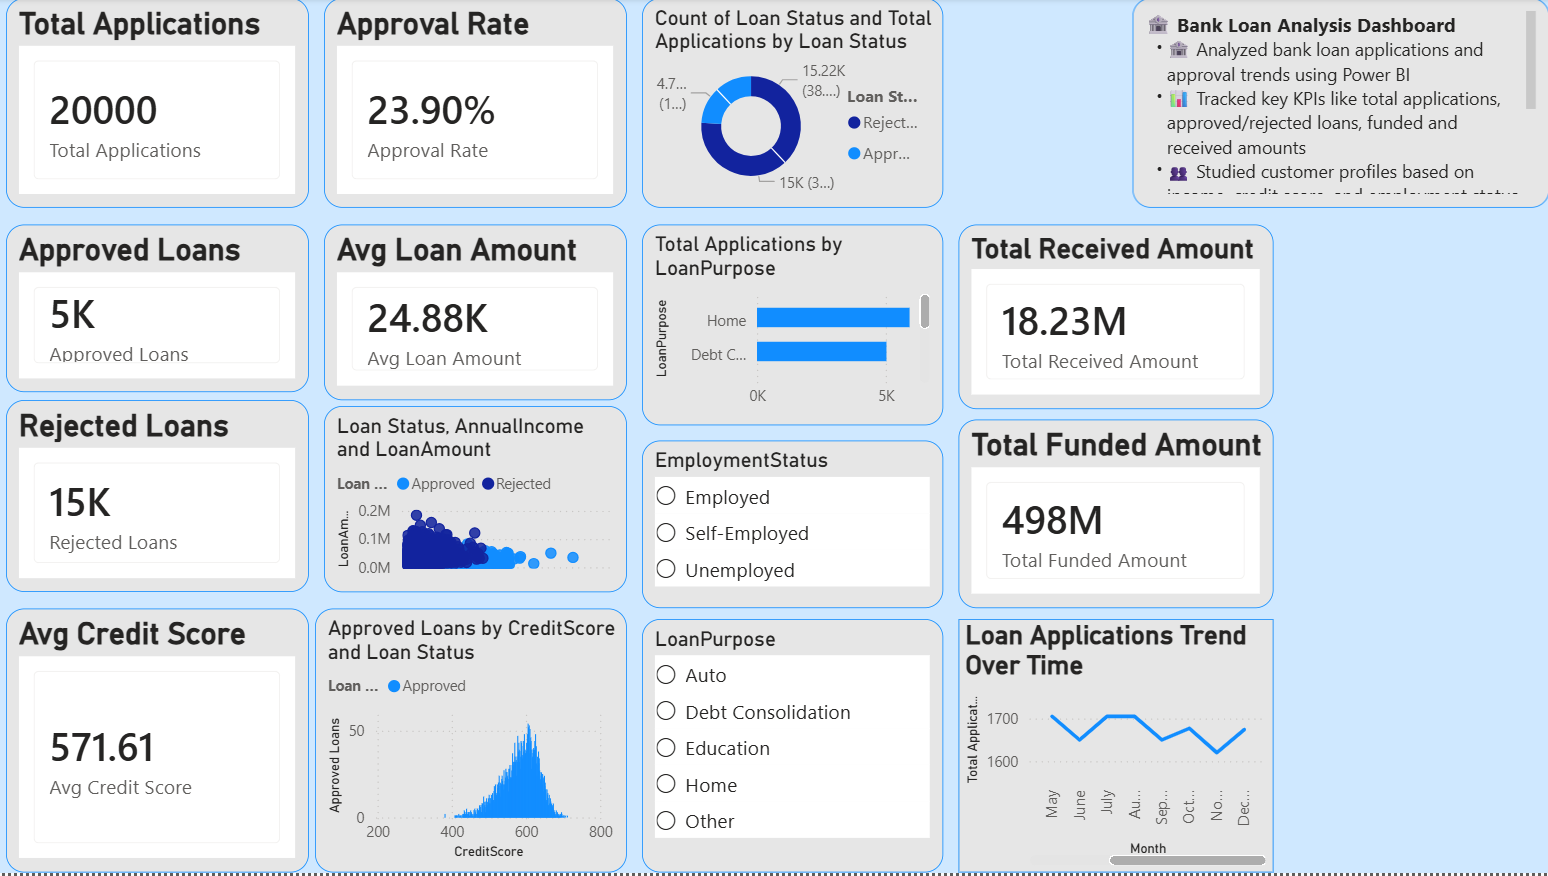

Layout of this report page (visuals, bound fields, positions):
{"tool":"powerbi","page":{"name":"Page 1","canvas":[1280,720],"ordinal":0},"visuals":[{"type":"cardVisual","title":"Total Applications","fields":{"Data":["Loan.Total Applications"]},"box":[9.9,0,249.4,172.9],"z":0},{"type":"cardVisual","title":"Approved Loans","fields":{"Data":["Loan.Approved Loans"]},"box":[9.9,186.4,249.4,138.3],"z":1000},{"type":"cardVisual","title":"Approval Rate","fields":{"Data":["Loan.Approval Rate"]},"box":[271.6,0,249.4,172.9],"z":2000},{"type":"cardVisual","title":"Avg Loan Amount","fields":{"Data":["Loan.Avg Loan Amount"]},"box":[271.6,186.4,249.4,144.5],"z":3000},{"type":"cardVisual","title":"Avg Credit Score","fields":{"Data":["Loan.Avg Credit Score"]},"box":[9.9,502.5,249.4,201.3],"z":4000},{"type":"donutChart","fields":{"Category":["Loan.Loan Status"],"Y":["CountNonNull(Loan.Loan Status)","Loan.Total Applications"]},"box":[533.4,0,248.2,172.9],"z":5000},{"type":"clusteredBarChart","fields":{"Category":["Loan.LoanPurpose"],"Y":["Loan.Total Applications"]},"box":[533.4,186.4,248.2,165.5],"z":6000},{"type":"scatterChart","fields":{"X":["Loan.AnnualIncome"],"Y":["Loan.LoanAmount"],"Series":["Loan.Loan Status"]},"box":[271.6,335.8,249.4,153.1],"z":7000},{"type":"listSlicer","fields":{"Values":["Loan.LoanPurpose"]},"box":[533.4,511.2,248.2,192.6],"z":8000},{"type":"listSlicer","fields":{"Values":["Loan.EmploymentStatus"]},"box":[533.4,364.2,248.2,138.3],"z":9000},{"type":"clusteredColumnChart","fields":{"Category":["Loan.CreditScore"],"Y":["Loan.Approved Loans"],"Series":["Loan.Loan Status"]},"box":[264.2,502.5,256.8,201.3],"z":10000},{"type":"cardVisual","title":"Rejected Loans","fields":{"Data":["Loan.Rejected Loans"]},"box":[9.9,330.9,249.4,158],"z":11000},{"type":"cardVisual","title":"Total Funded Amount","fields":{"Data":["Loan.Total Funded Amount"]},"box":[793.9,347,259.3,164.2],"z":12000},{"type":"cardVisual","title":"Total Received Amount","fields":{"Data":["Loan.Total Received Amount"]},"box":[793.9,186.4,259.3,151.9],"z":13000},{"type":"lineChart","title":"Loan Applications Trend Over Time","fields":{"Category":["Loan.ApplicationDate.Variation.Date Hierarchy.Year","Loan.ApplicationDate.Variation.Date Hierarchy.Quarter","Loan.ApplicationDate.Variation.Date Hierarchy.Month","Loan.ApplicationDate.Variation.Date Hierarchy.Day"],"Y":["Loan.Total Applications"]},"box":[793.9,511.2,259.3,208.7],"z":14000},{"type":"textbox","box":[937.2,0,343.3,172.9],"z":14001}]}

Visuals, with their boxes in screenshot pixels (x1, y1, x2, y2), scaled from the page's 1280x720 canvas onto the 1548x876 screenshot:
"Total Applications" cardVisual: <bbox>12, 0, 314, 210</bbox>
"Approved Loans" cardVisual: <bbox>12, 227, 314, 395</bbox>
"Approval Rate" cardVisual: <bbox>328, 0, 630, 210</bbox>
"Avg Loan Amount" cardVisual: <bbox>328, 227, 630, 403</bbox>
"Avg Credit Score" cardVisual: <bbox>12, 611, 314, 856</bbox>
donutChart - Loan.Loan Status x CountNonNull(Loan.Loan Status): <bbox>645, 0, 945, 210</bbox>
clusteredBarChart - Loan.LoanPurpose x Loan.Total Applications: <bbox>645, 227, 945, 428</bbox>
scatterChart - Loan.AnnualIncome x Loan.LoanAmount: <bbox>328, 409, 630, 595</bbox>
listSlicer - Loan.LoanPurpose: <bbox>645, 622, 945, 856</bbox>
listSlicer - Loan.EmploymentStatus: <bbox>645, 443, 945, 611</bbox>
clusteredColumnChart - Loan.CreditScore x Loan.Approved Loans: <bbox>320, 611, 630, 856</bbox>
"Rejected Loans" cardVisual: <bbox>12, 403, 314, 595</bbox>
"Total Funded Amount" cardVisual: <bbox>960, 422, 1274, 622</bbox>
"Total Received Amount" cardVisual: <bbox>960, 227, 1274, 412</bbox>
"Loan Applications Trend Over Time" lineChart: <bbox>960, 622, 1274, 875</bbox>
textbox: <bbox>1133, 0, 1547, 210</bbox>
